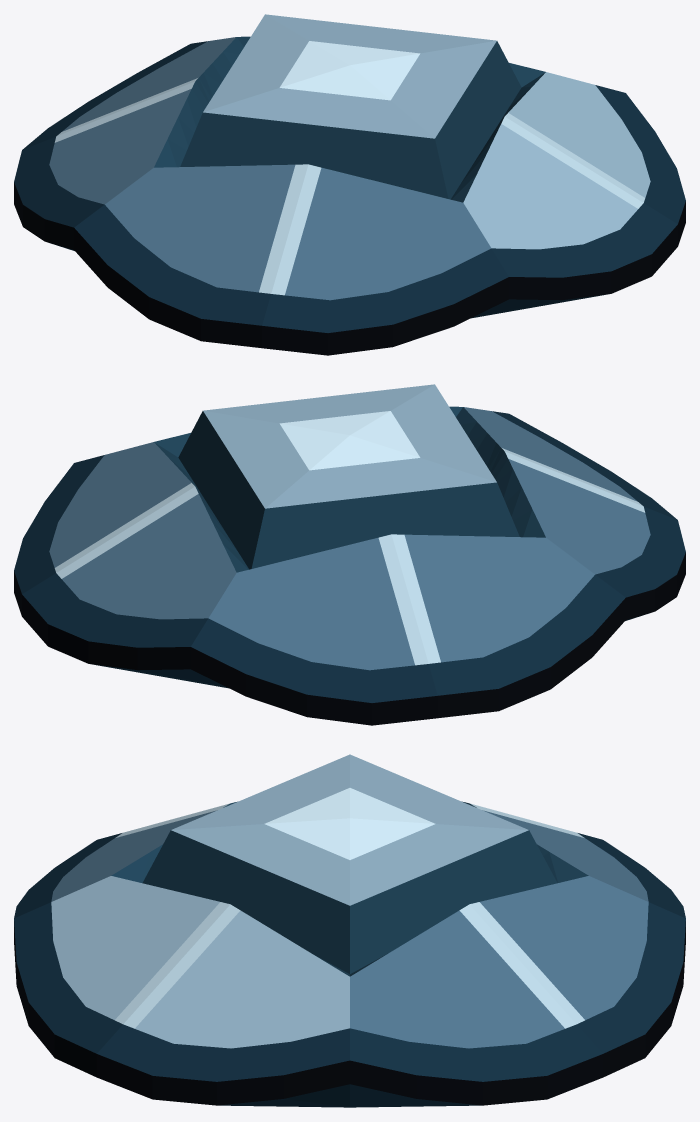
Rendered from facet_orb_155.glb.
3 views of the same model, one above another, from view 1: azimuth 30°, elevation 25°; view 2: azimuth 150°, elevation 25°; view 3: azimuth 270°, elevation 25° (orthographic). The views are drawn at different scales.
Visible parts, largest first — view 1: facet_orb; view 2: facet_orb; view 3: facet_orb.
Boxes of the visible parts, x1=… form: facet_orb: x1=14, y1=14, x2=685, y2=355; facet_orb: x1=14, y1=384, x2=685, y2=725; facet_orb: x1=14, y1=754, x2=685, y2=1107.
Bounding box in the file's own units: 18 × 8.55 × 18.
